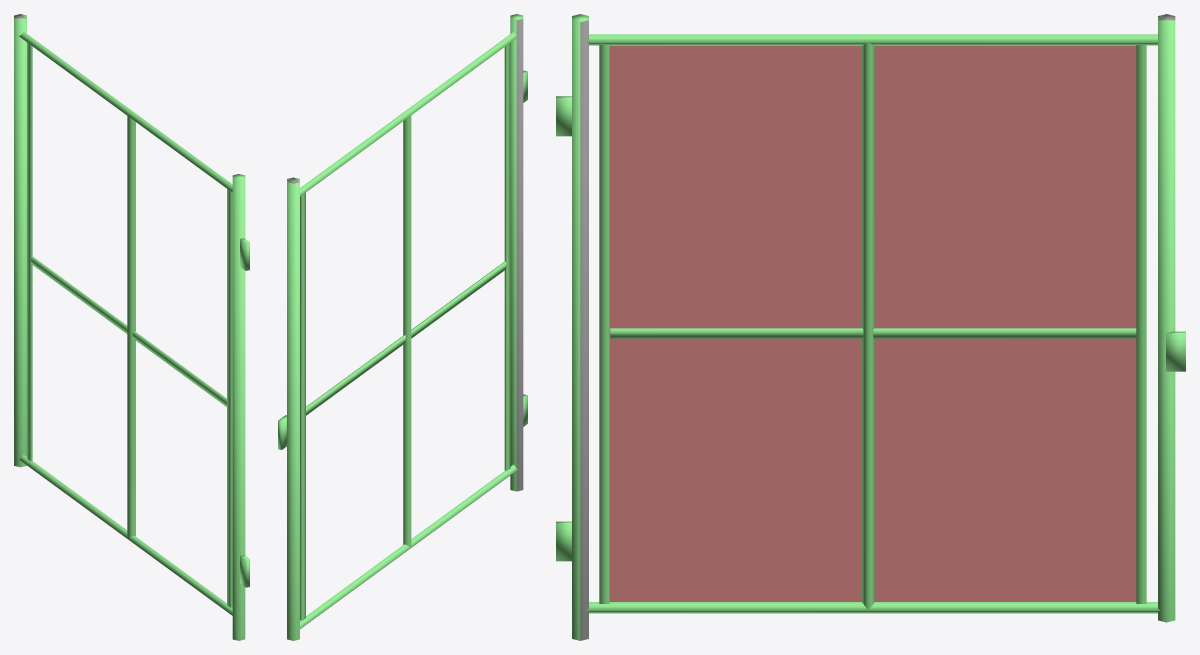
The model's file is SM_fence_104gate.gltf.
3 renders of one model, left to right at view 1: azimuth 30°, elevation 25°; view 2: azimuth 150°, elevation 25°; view 3: azimuth 270°, elevation 25°, orthographic. The views are drawn at different scales.
Parts seen in each view (by area): view 1: SM_fence_104gate; view 2: SM_fence_104gate; view 3: SM_fence_104gate.
Part boxes in pixels (x1,y1,x2,y2): SM_fence_104gate: (14, 14, 249, 640); SM_fence_104gate: (278, 14, 527, 640); SM_fence_104gate: (556, 14, 1185, 640).
Bounding box in the file's own units: 0.0697 × 2.14 × 1.97.
